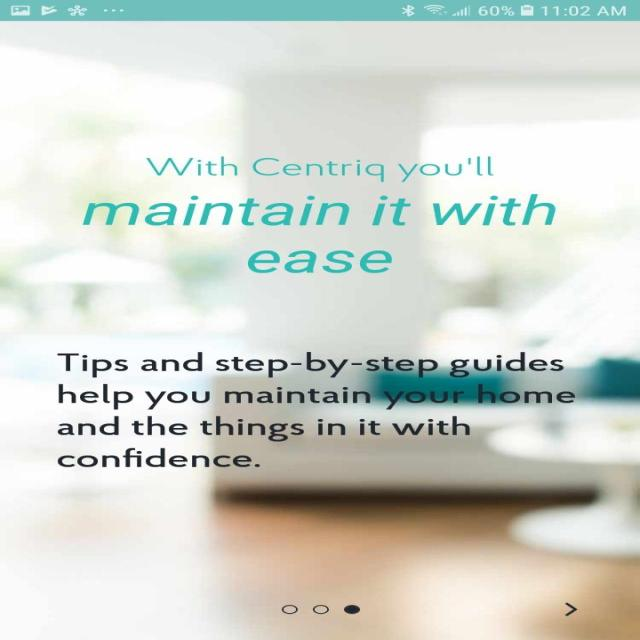BackgroundImage: (0, 21, 638, 639)
Icon: (563, 602, 577, 616)
Text: (55, 350, 574, 468), (82, 194, 556, 274), (146, 156, 493, 183)
